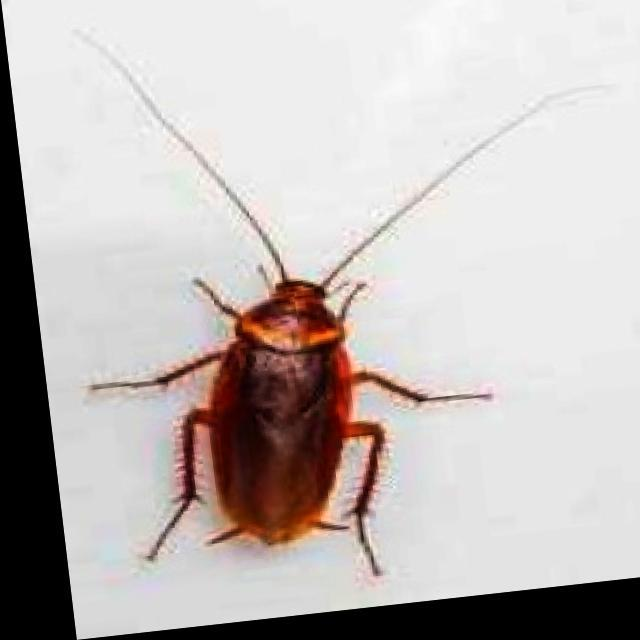cockroach: (160, 224, 420, 548)
